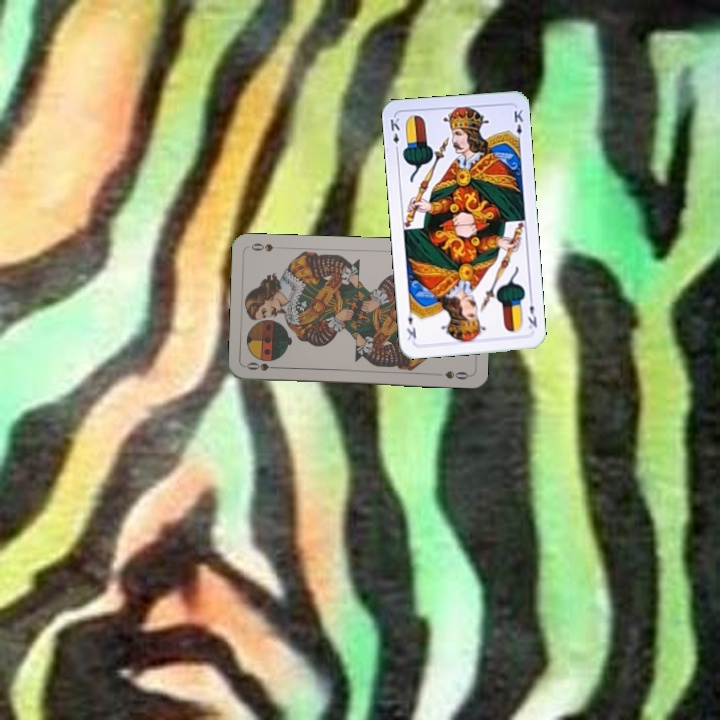EK: (386, 114, 402, 155), (524, 293, 540, 331)
SO: (243, 358, 283, 373)
